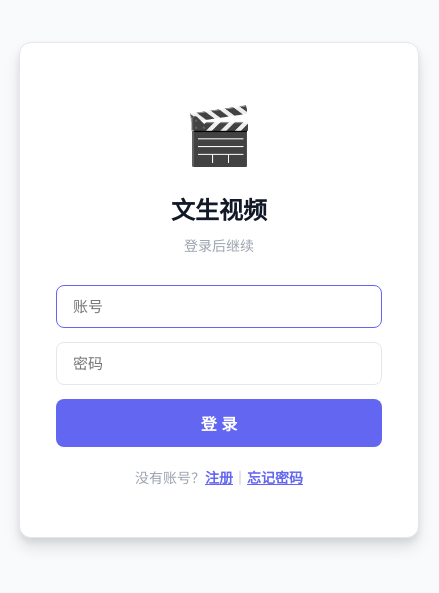
Test: 登录流程 › 登录失败显示错误
Type "testuser" into the field with placeholder "账号". click: (219, 306)
box: [56,285,382,328]
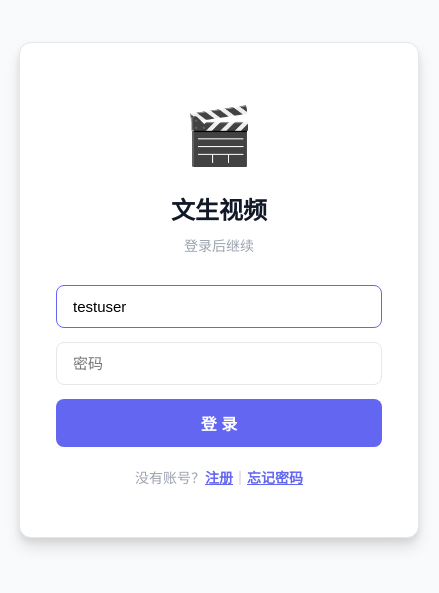
Type "wrong" into the password field with placeholder "密码". click: (219, 364)
box: [56,342,382,385]
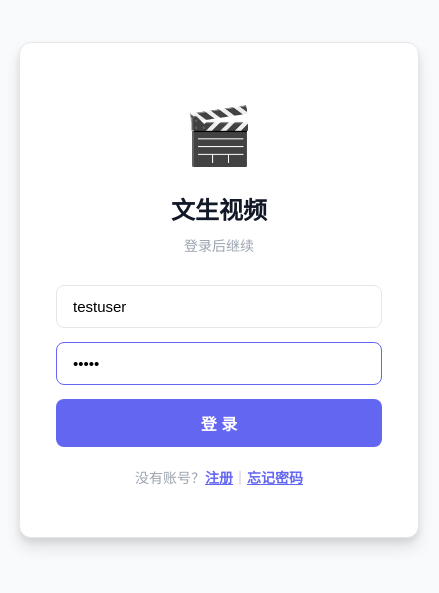
Click the button "登 录". click: click(219, 423)
box: [56,399,382,447]
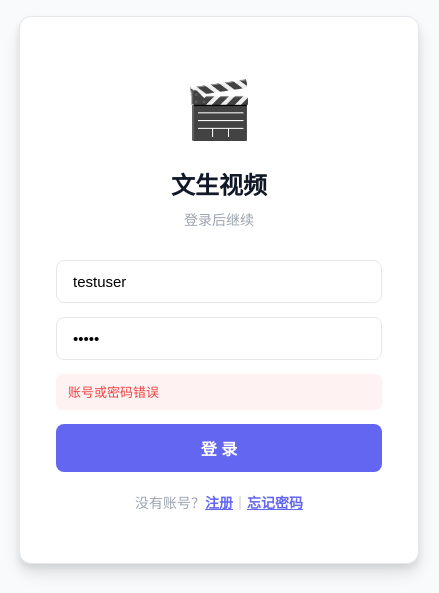
Expected: the text "账号或密码错误" is shown, [56,374,382,410]
